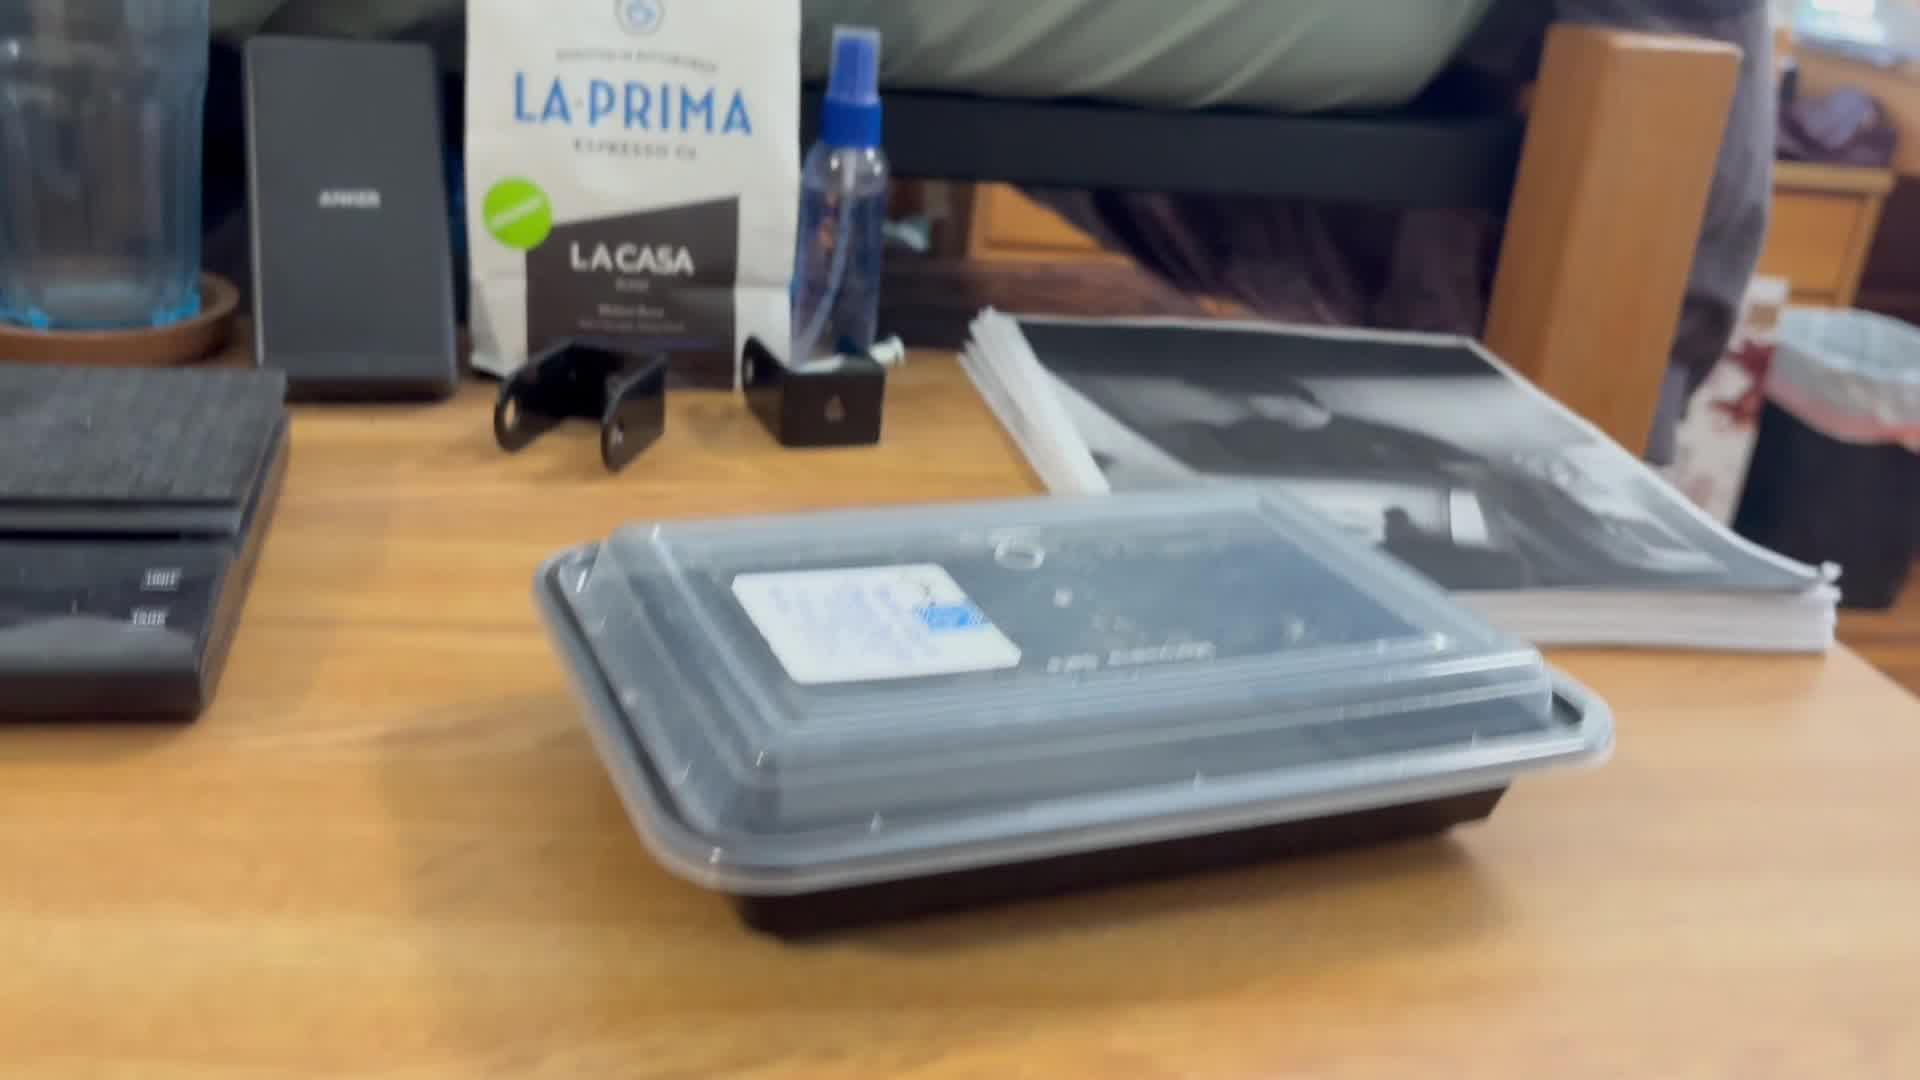lp_cup_lids: (523, 475, 1638, 950)
